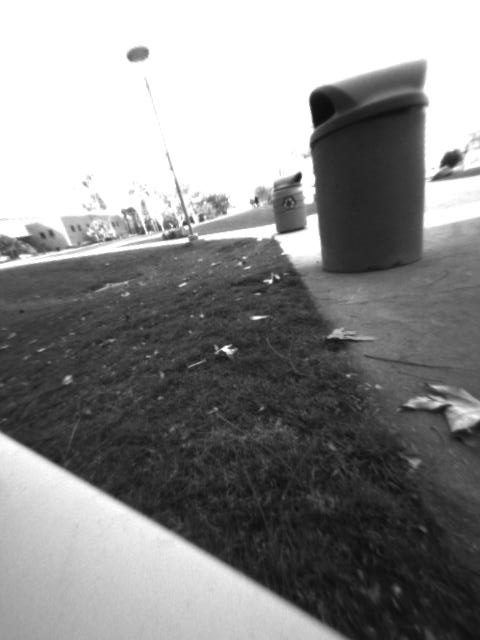trashcan: (306, 58, 429, 271)
